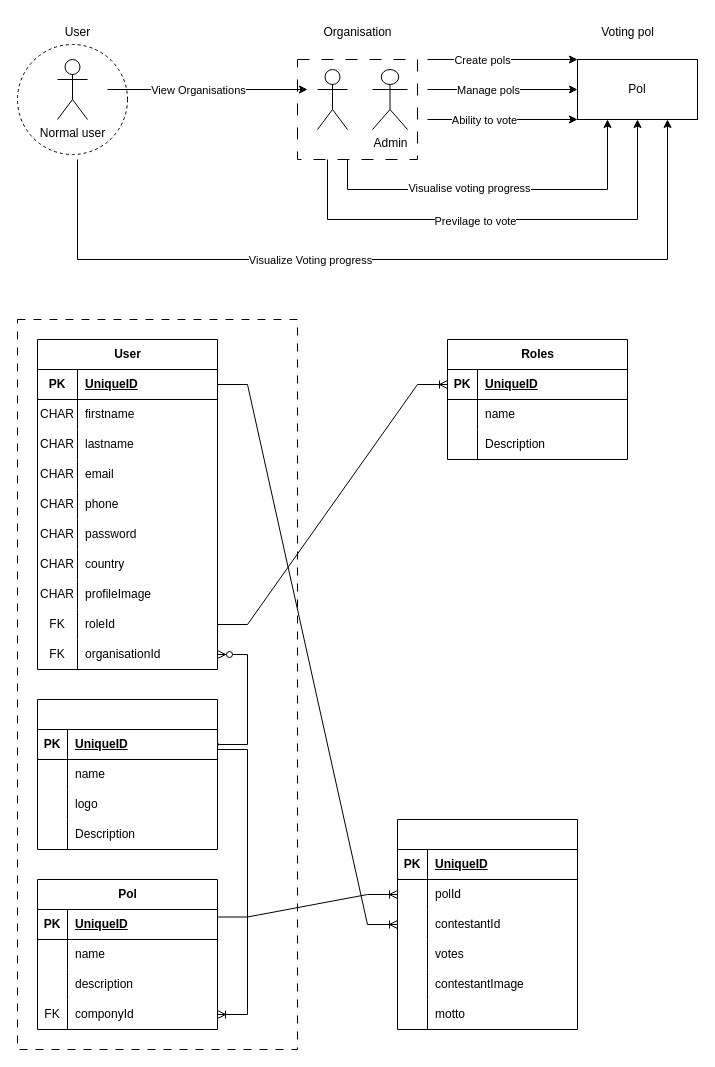
The diagram is 715 pixels wide and 1067 high, and some of its shapes have lost their labels. The shapes that lost their labels are listed below. From the top down, each one's box as (x1, y1, x2, y2) in pixels, then its label:
(316, 68, 348, 130): Member
(36, 698, 218, 850): Organisaation
(396, 818, 578, 1030): Voting_pol
